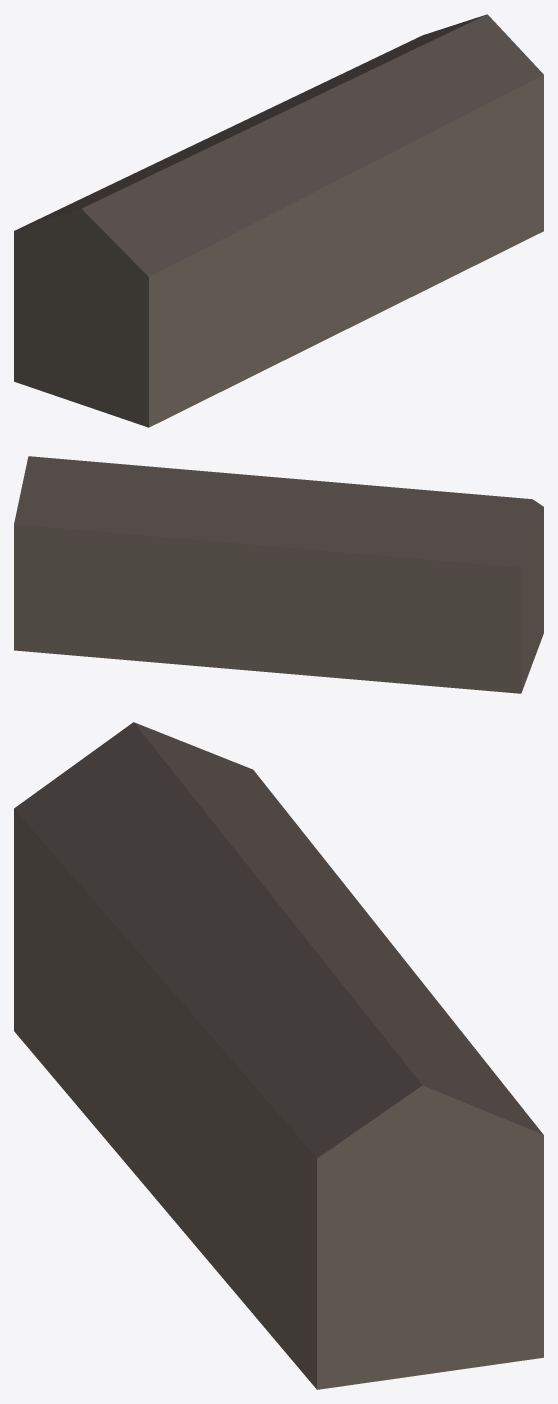
3 views of the same model, one above another, from view 1: azimuth 30°, elevation 25°; view 2: azimuth 150°, elevation 25°; view 3: azimuth 270°, elevation 25° (orthographic). The views are drawn at different scales.
Parts seen in each view (by area): view 1: HP-w505653336; view 2: HP-w505653336; view 3: HP-w505653336.
Part boxes in pixels (box(x1,y1,x2,y2)): HP-w505653336: box(14, 14, 543, 427); HP-w505653336: box(14, 456, 543, 693); HP-w505653336: box(14, 722, 543, 1389).
Size of the model in its own units: 34.49 by 11.71 by 19.42.
